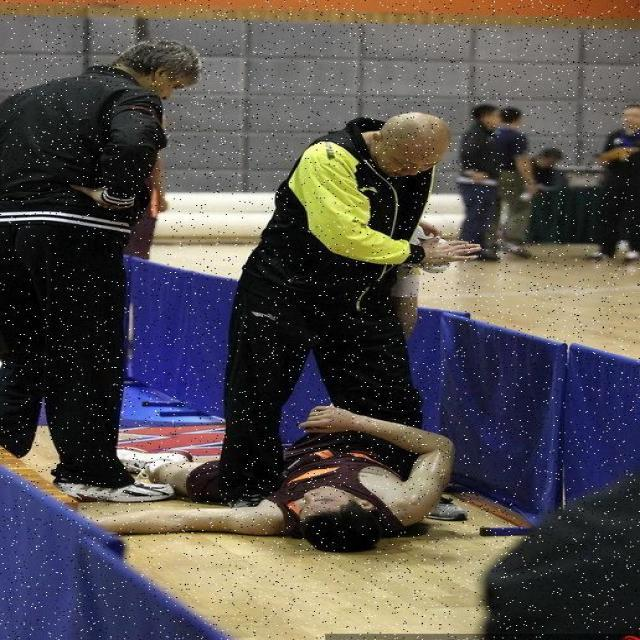fall: (128, 408, 458, 545)
